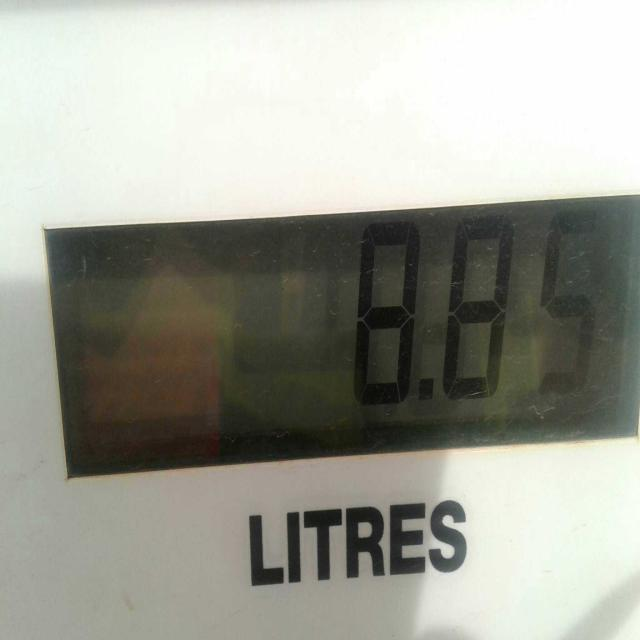.: (407, 372, 442, 441)
5: (536, 204, 599, 415)
8: (339, 218, 419, 436), (442, 212, 518, 412)
